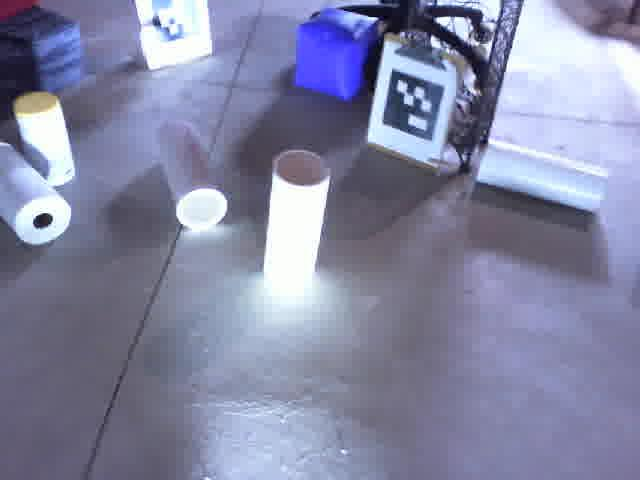coral: (263, 140, 335, 300), (473, 133, 613, 215), (149, 120, 238, 233)
